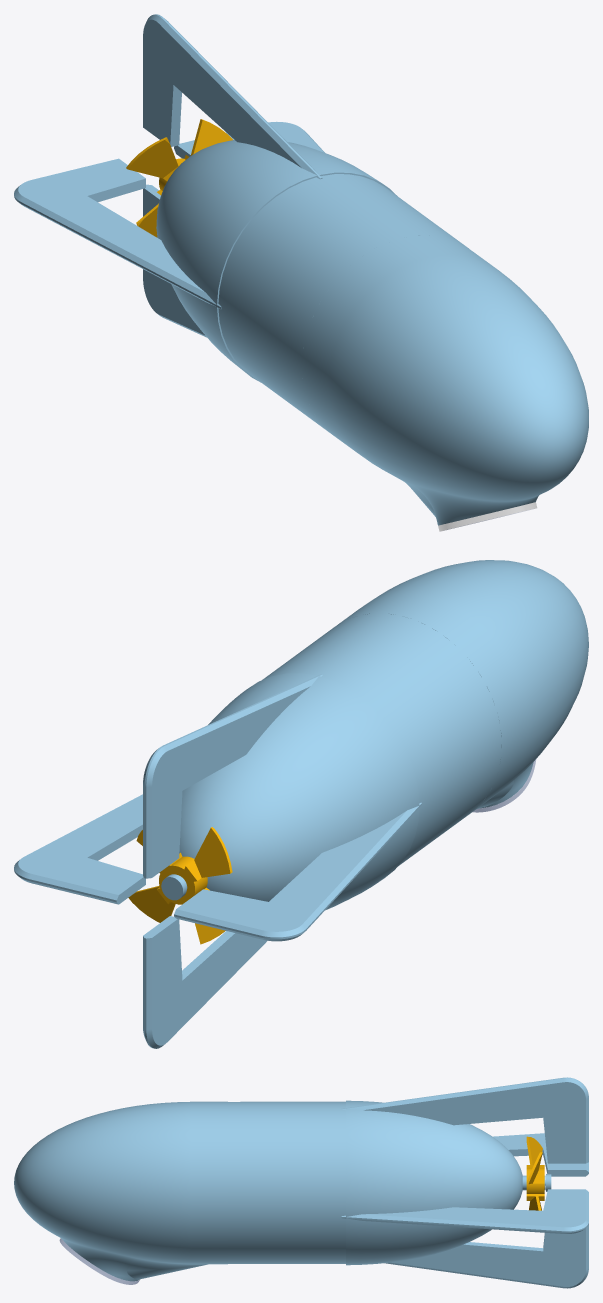
3 views of the same model, one above another, from view 1: azimuth 30°, elevation 25°; view 2: azimuth 150°, elevation 25°; view 3: azimuth 270°, elevation 25° (orthographic). The views are drawn at different scales.
Visible parts, largest first — view 1: Part 1 (×2), Part 3 (×2); view 2: Part 1 (×2), Part 3; view 3: Part 1 (×2), Part 3 (×2).
Boxes of the visible parts, x1=… form: Part 1 (×2): x1=14, y1=14, x2=588, y2=525; Part 3 (×2): x1=126, y1=119, x2=537, y2=531; Part 1 (×2): x1=14, y1=560, x2=588, y2=1048; Part 3: x1=128, y1=827, x2=232, y2=944; Part 1 (×2): x1=14, y1=1077, x2=588, y2=1288; Part 3 (×2): x1=59, y1=1136, x2=544, y2=1284.
Size of what is drawn, in the model's own units: 0.1572 by 0.3894 by 0.1572.
